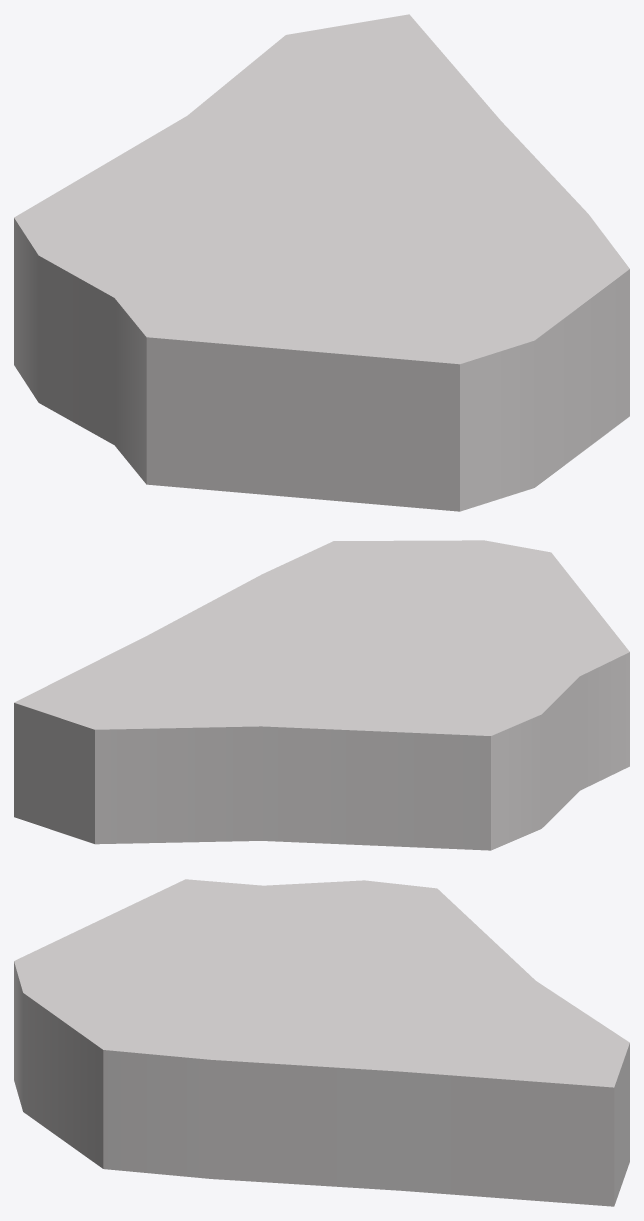
The model's file is nantou.glb.
The picture shows the model from 3 angles, top to bottom: view 1: azimuth 30°, elevation 25°; view 2: azimuth 150°, elevation 25°; view 3: azimuth 270°, elevation 25°; orthographic projection. The views are drawn at different scales.
Visible parts, largest first — view 1: map_geo Nantou_geo; view 2: map_geo Nantou_geo; view 3: map_geo Nantou_geo.
Boxes of the visible parts, x1,y1,x2,y2 form: map_geo Nantou_geo: (14, 14, 629, 511); map_geo Nantou_geo: (14, 540, 629, 850); map_geo Nantou_geo: (14, 879, 629, 1206).
Bounding box in the file's own units: 1.04 × 0.2781 × 1.3.
Materials: 1 (1 with a texture image).
